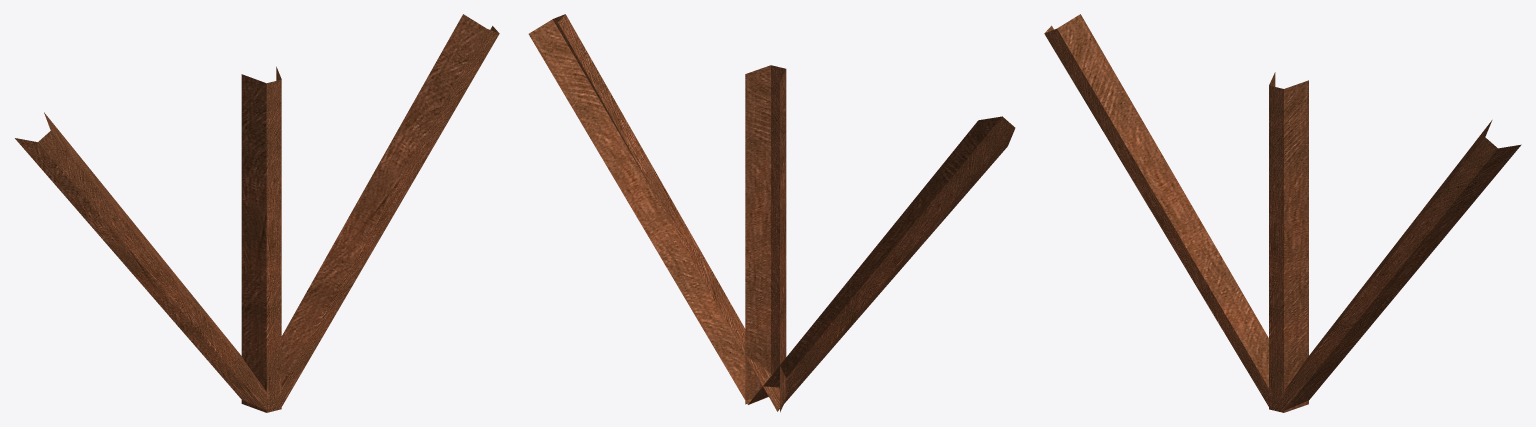
The model's file is fanasty_mod_lar_V_beam.fbx.
The picture shows the model from 3 angles, left to right: view 1: azimuth 30°, elevation 25°; view 2: azimuth 150°, elevation 25°; view 3: azimuth 330°, elevation 25°; orthographic projection.
Visible parts, largest first — view 1: lar_V_beam; view 2: lar_V_beam; view 3: lar_V_beam.
Boxes of the visible parts, bbox=[...] form: lar_V_beam: bbox=[15, 14, 499, 412]; lar_V_beam: bbox=[528, 14, 1015, 412]; lar_V_beam: bbox=[1044, 14, 1521, 412].
Bounding box in the file's own units: 5.32 × 3.62 × 0.3012.
